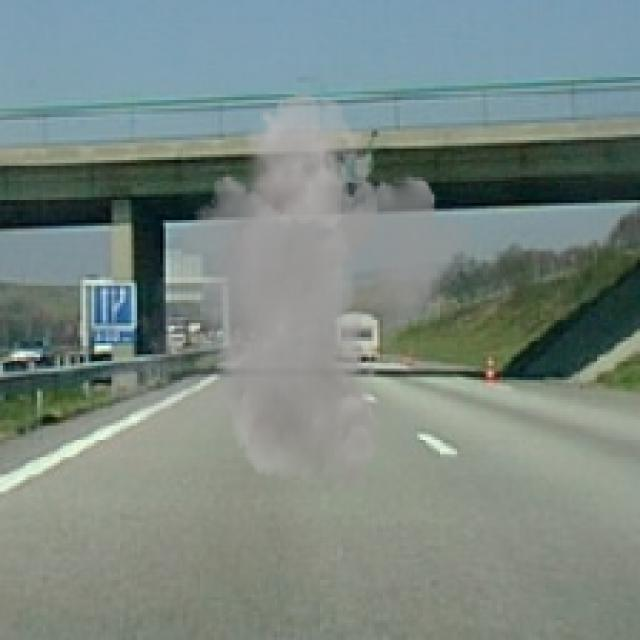smoke: (91, 92, 486, 497)
